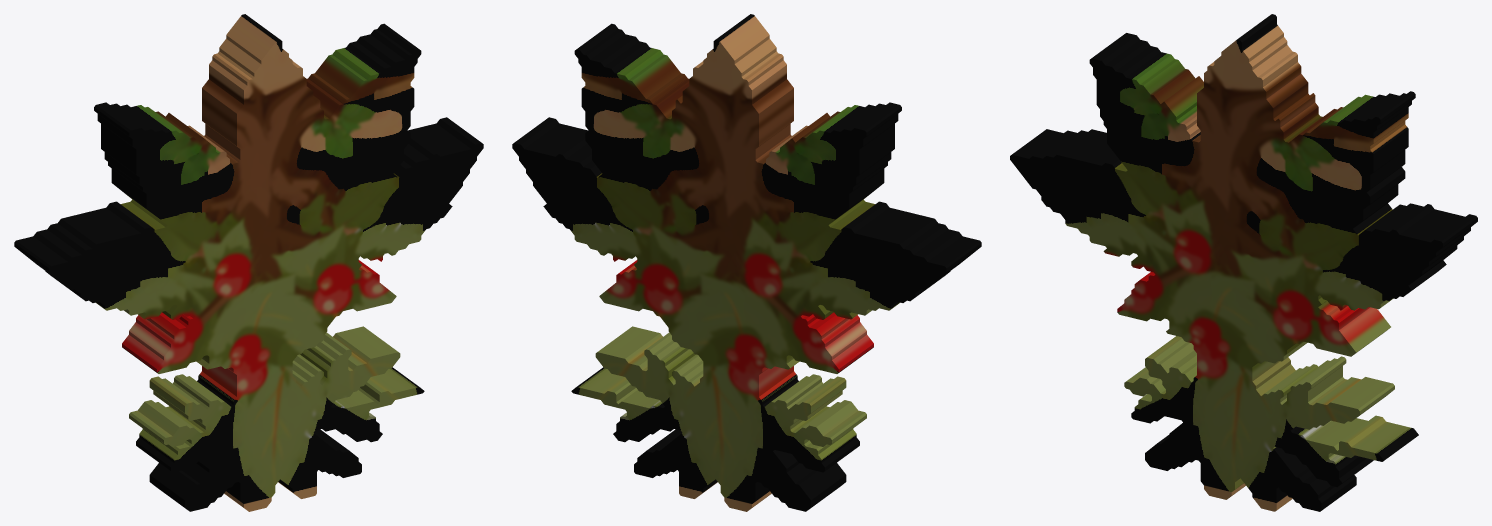
Rendered from bush-with-flowers-0.glb.
3 renders of one model, left to right at view 1: azimuth 30°, elevation 25°; view 2: azimuth 150°, elevation 25°; view 3: azimuth 330°, elevation 25°, orthographic.
Visible parts, largest first — view 1: world; view 2: world; view 3: world.
Part boxes in pixels (bbox=[...]): world: bbox=[14, 14, 483, 511]; world: bbox=[512, 14, 981, 511]; world: bbox=[1010, 14, 1477, 511].
Bounding box in the file's own units: 366 × 374 × 51.3.
1 material, 1 textured.
